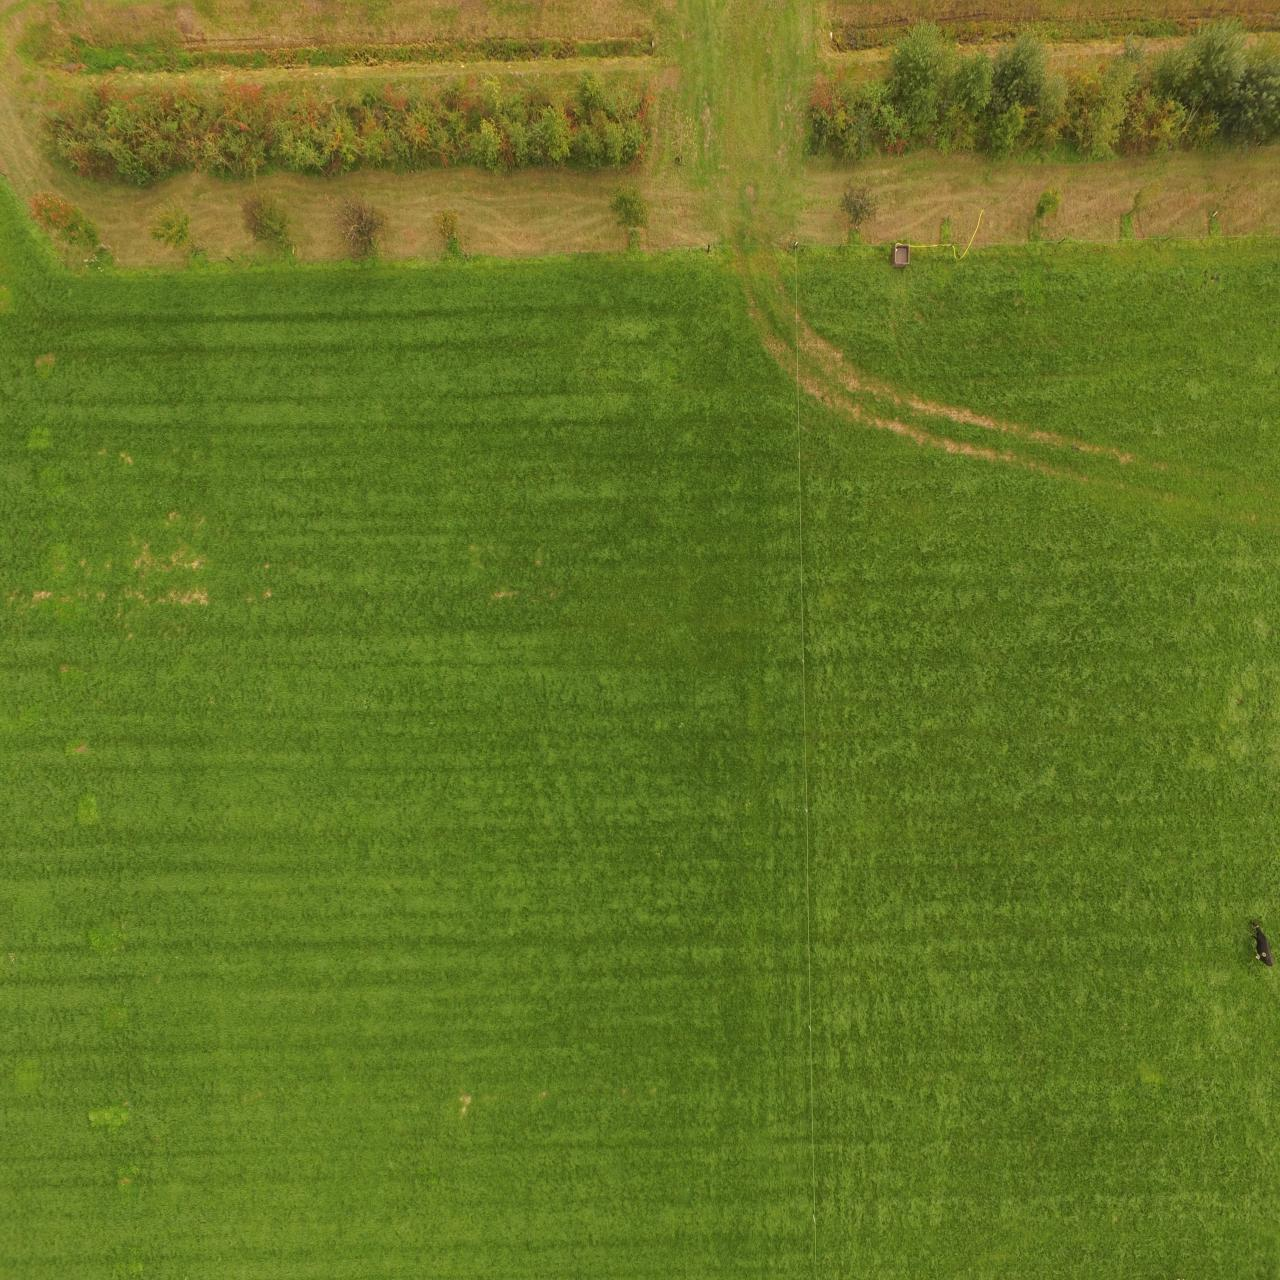cow: (1249, 919, 1275, 968)
